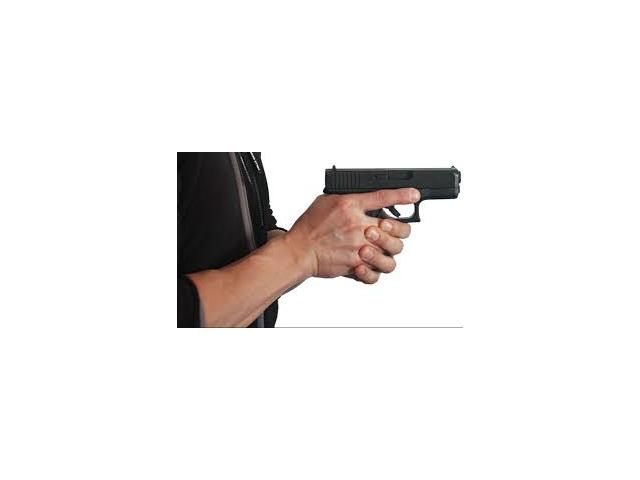pistol: (322, 166, 462, 282)
